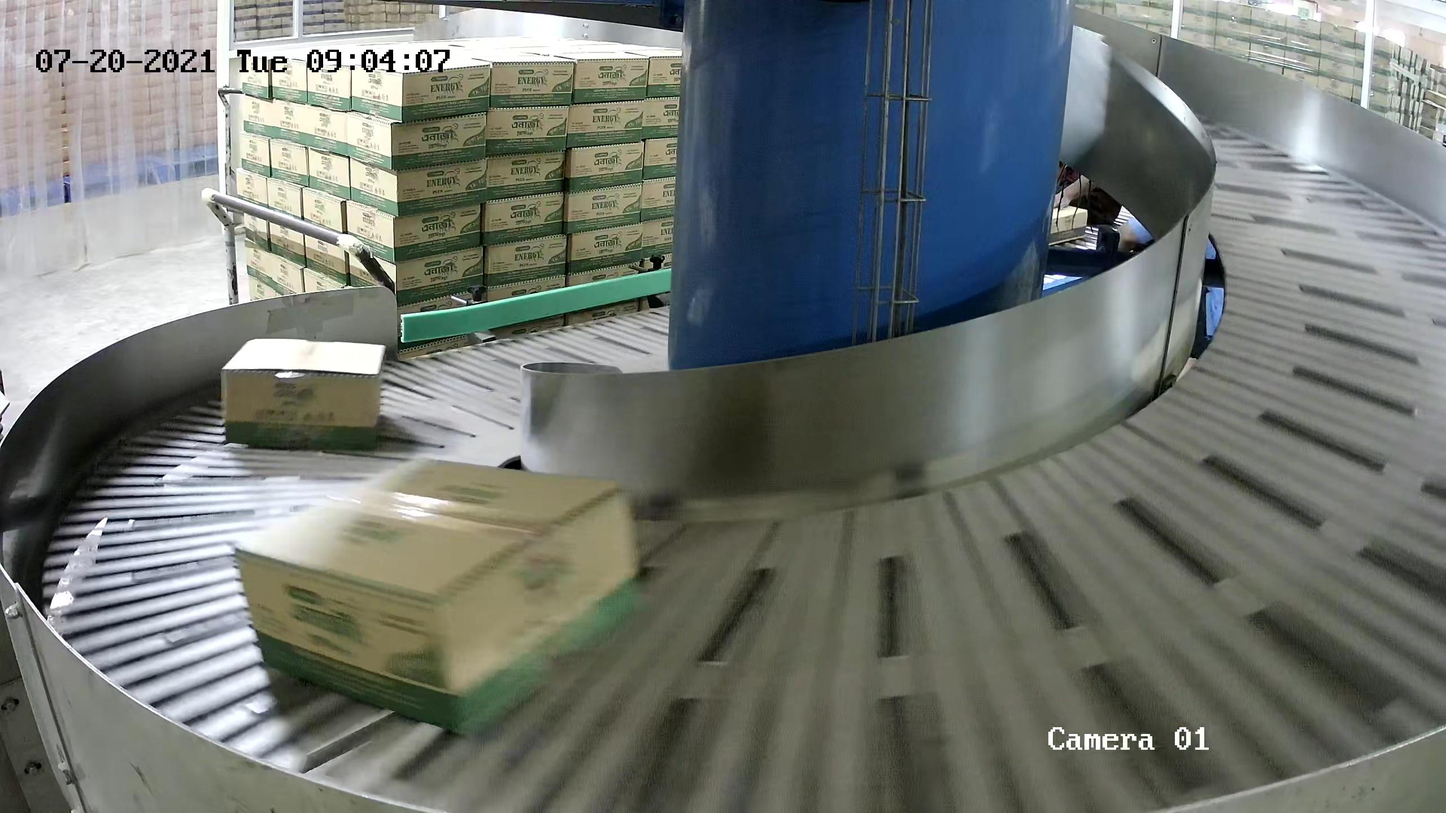Box: (230, 455, 650, 741), (222, 336, 389, 449)
